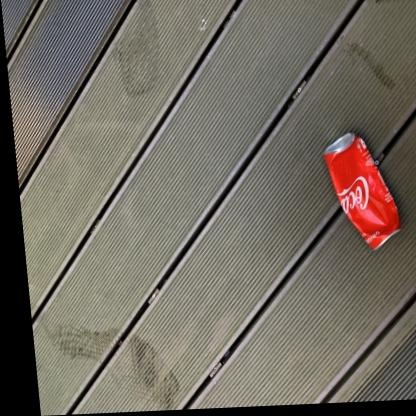trash: (323, 133, 399, 249)
